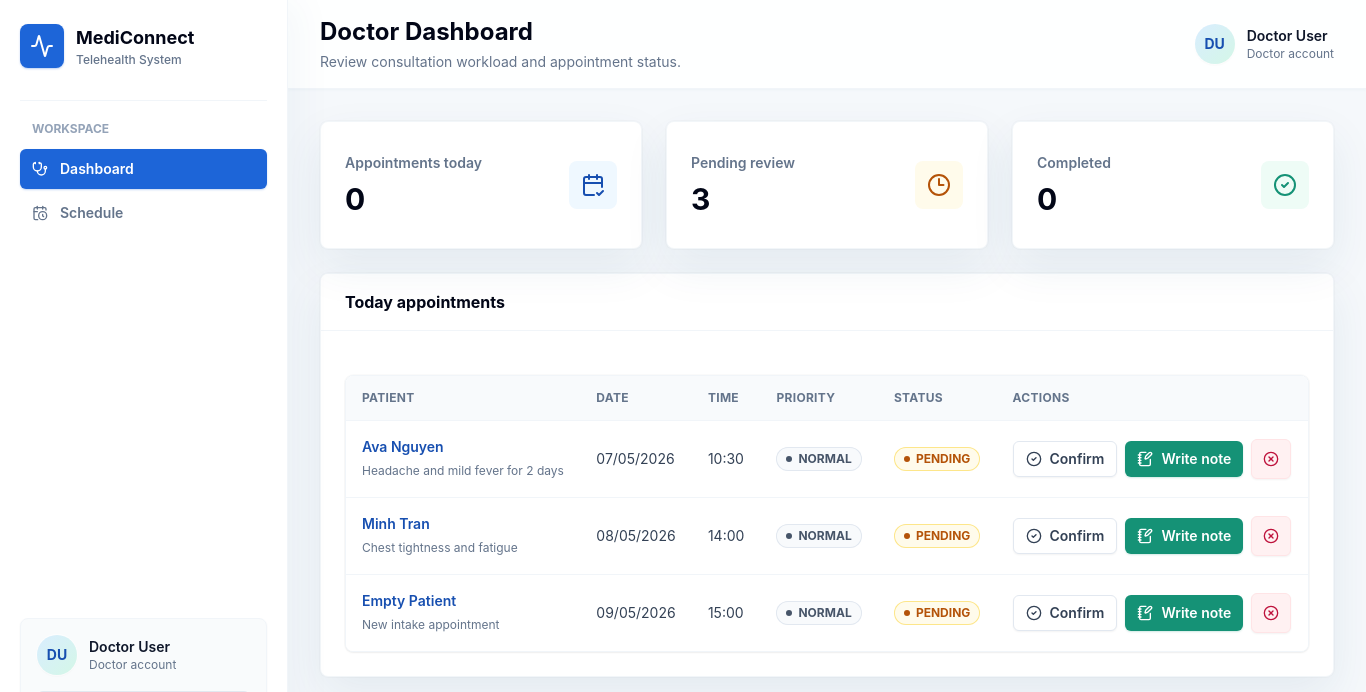
Scenario: Telehealth frontend routes › lets doctors cancel assigned appointments with a reason
Click the button named "cancel ava nguyen appointment" at [1271, 459], box 1251,439 -> 1291,479
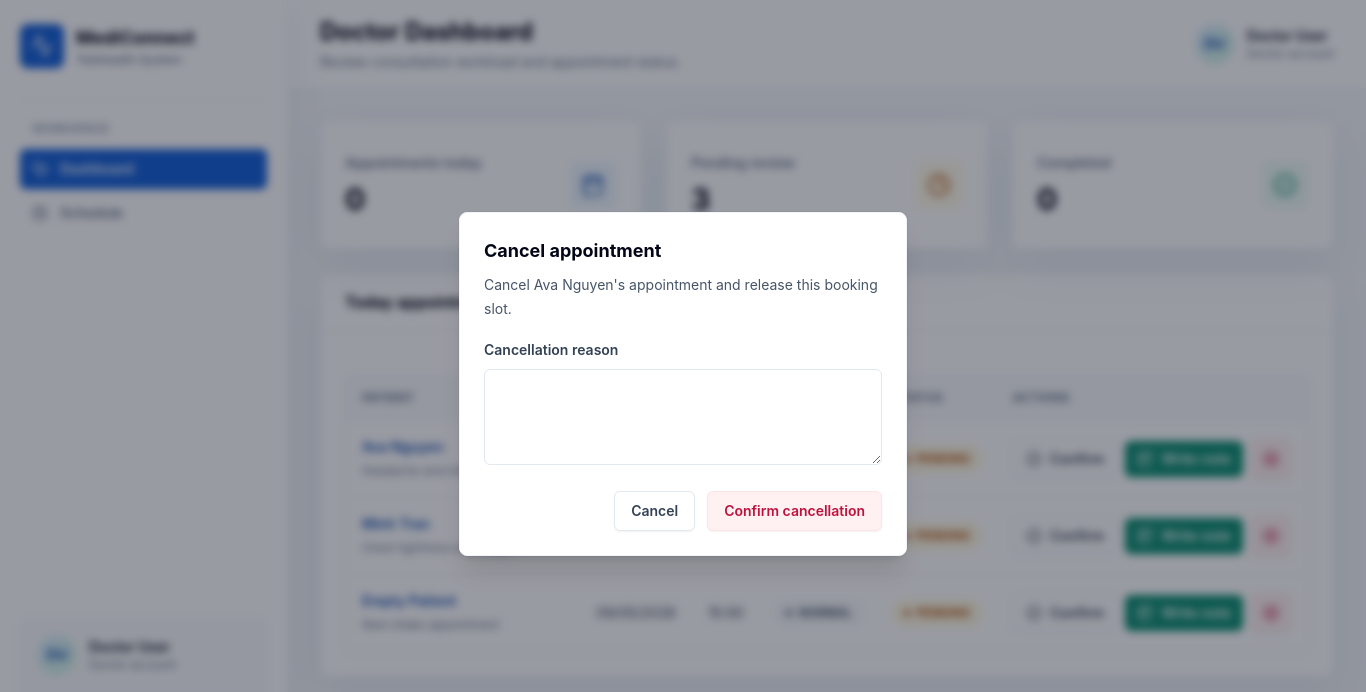
Check: the heading "Cancel appointment" is shown, box 484,240 -> 661,261
Type "Doctor emergency" into the text box labelled "Cancellation reason" at [683, 417], box 484,369 -> 882,465
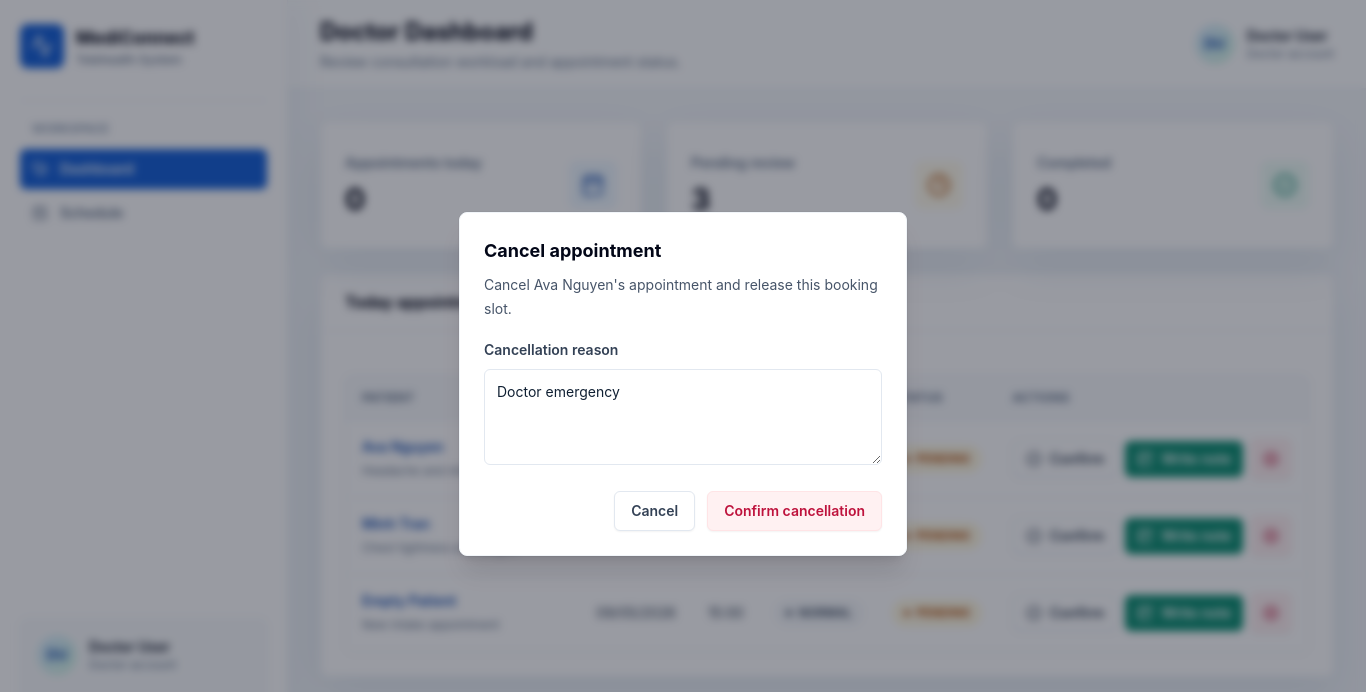
Click the button "Confirm cancellation" at [795, 511], box 707,491 -> 882,531
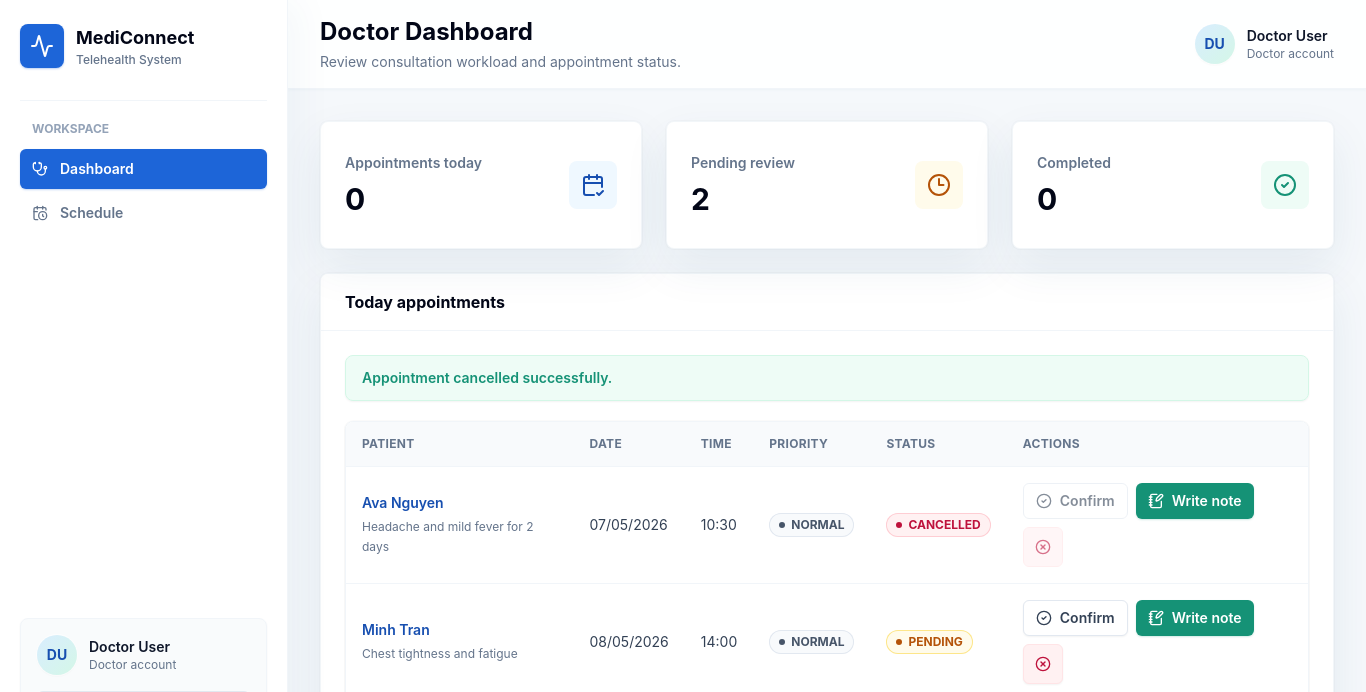
Check: the text "Appointment cancelled successfully." is shown, box 345,355 -> 1309,401
Check: the text "CANCELLED" is shown, box 886,513 -> 991,537
